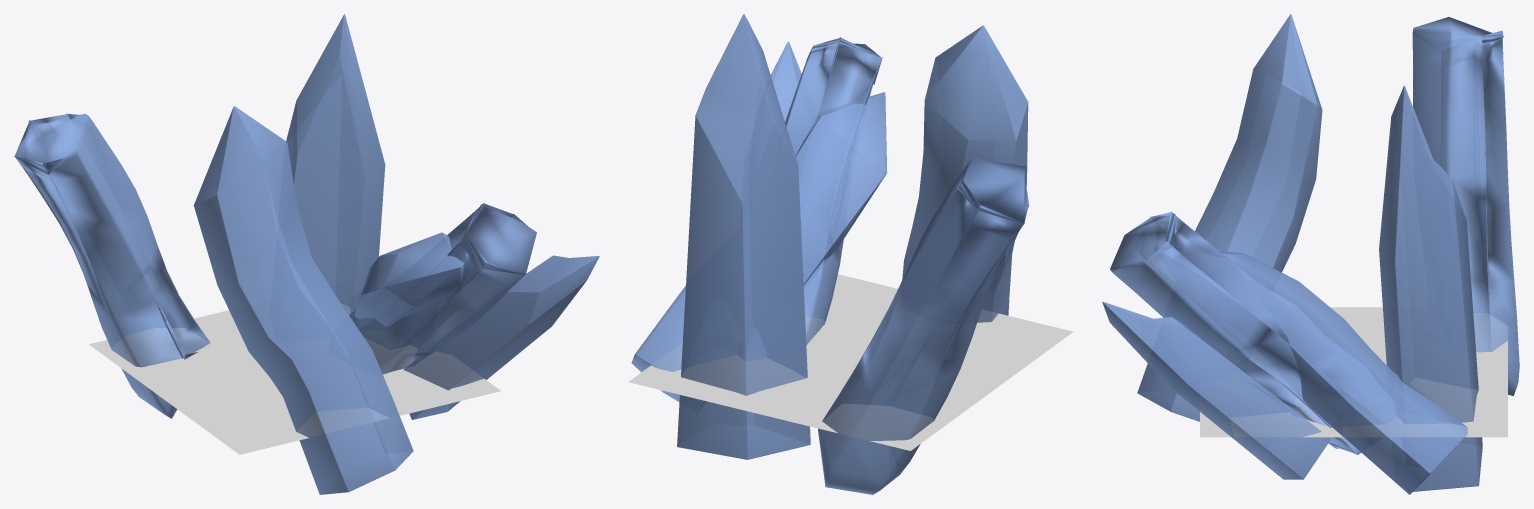
The model's file is Crystals4.fbx.
3 renders of one model, left to right at view 1: azimuth 30°, elevation 25°; view 2: azimuth 150°, elevation 25°; view 3: azimuth 270°, elevation 25°, orthographic. The views are drawn at different scales.
Visible parts, largest first — view 1: Crystals4|Crystal3|Dupli|2, Crystals4|Crystal1|Dupli|1, Crystals4, Crystals4|Crystal2|Dupli|, Crystals4|Crystal1|Dupli|4, Crystals4|Crystal2|Dupli|3, Crystals4|Crystal3|Dupli|5; view 2: Crystals4|Crystal2|Dupli|, Crystals4|Crystal1|Dupli|1, Crystals4, Crystals4|Crystal3|Dupli|5, Crystals4|Crystal1|Dupli|4, Crystals4|Crystal3|Dupli|2, Crystals4|Crystal2|Dupli|3; view 3: Crystals4|Crystal2|Dupli|, Crystals4|Crystal3|Dupli|5, Crystals4|Crystal1|Dupli|4, Crystals4|Crystal1|Dupli|1, Crystals4|Crystal3|Dupli|2, Crystals4|Crystal2|Dupli|3, Crystals4.
Part boxes in pixels (x1=…): Crystals4|Crystal3|Dupli|2: x1=193, y1=106, x2=413, y2=494; Crystals4|Crystal1|Dupli|1: x1=14, y1=113, x2=210, y2=418; Crystals4: x1=89, y1=303, x2=500, y2=454; Crystals4|Crystal2|Dupli|: x1=286, y1=14, x2=385, y2=323; Crystals4|Crystal1|Dupli|4: x1=349, y1=203, x2=536, y2=374; Crystals4|Crystal2|Dupli|3: x1=403, y1=255, x2=599, y2=419; Crystals4|Crystal3|Dupli|5: x1=351, y1=232, x2=473, y2=349; Crystals4|Crystal2|Dupli|: x1=677, y1=14, x2=810, y2=459; Crystals4|Crystal1|Dupli|1: x1=818, y1=158, x2=1029, y2=494; Crystals4: x1=628, y1=274, x2=1073, y2=450; Crystals4|Crystal3|Dupli|5: x1=631, y1=92, x2=887, y2=409; Crystals4|Crystal1|Dupli|4: x1=737, y1=37, x2=882, y2=360; Crystals4|Crystal3|Dupli|2: x1=902, y1=25, x2=1028, y2=322; Crystals4|Crystal2|Dupli|3: x1=770, y1=41, x2=801, y2=121; Crystals4|Crystal2|Dupli|: x1=1379, y1=85, x2=1482, y2=491; Crystals4|Crystal3|Dupli|5: x1=1165, y1=249, x2=1467, y2=494; Crystals4|Crystal1|Dupli|4: x1=1110, y1=211, x2=1396, y2=454; Crystals4|Crystal1|Dupli|1: x1=1412, y1=17, x2=1519, y2=395; Crystals4|Crystal3|Dupli|2: x1=1137, y1=14, x2=1322, y2=421; Crystals4|Crystal2|Dupli|3: x1=1102, y1=301, x2=1330, y2=479; Crystals4: x1=1200, y1=307, x2=1507, y2=437.
Size of the model in its own units: 187 by 172 by 165.
